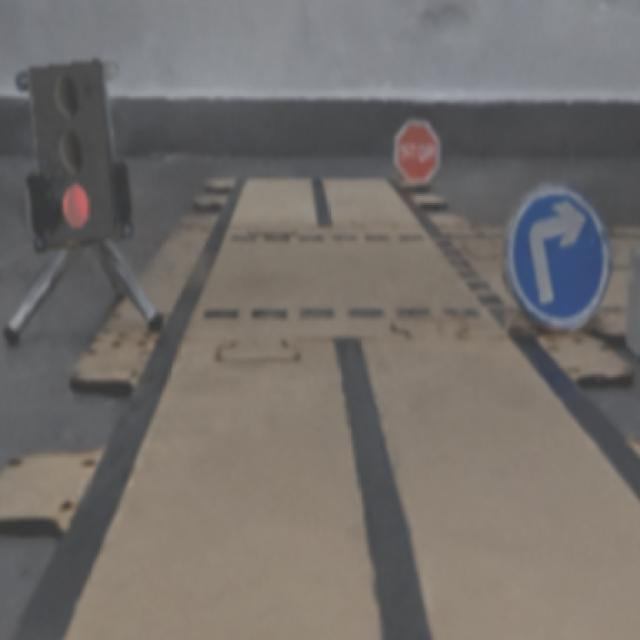RIGHT: (507, 187, 610, 328)
STOP: (394, 120, 439, 183)
